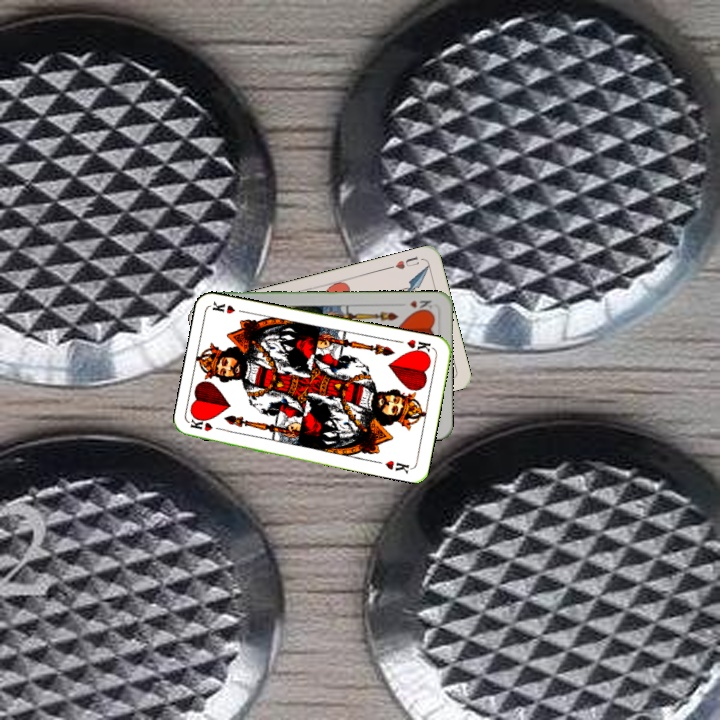HK: (187, 415, 228, 434), (403, 335, 436, 358), (406, 296, 436, 314)
HU: (385, 252, 422, 272)
